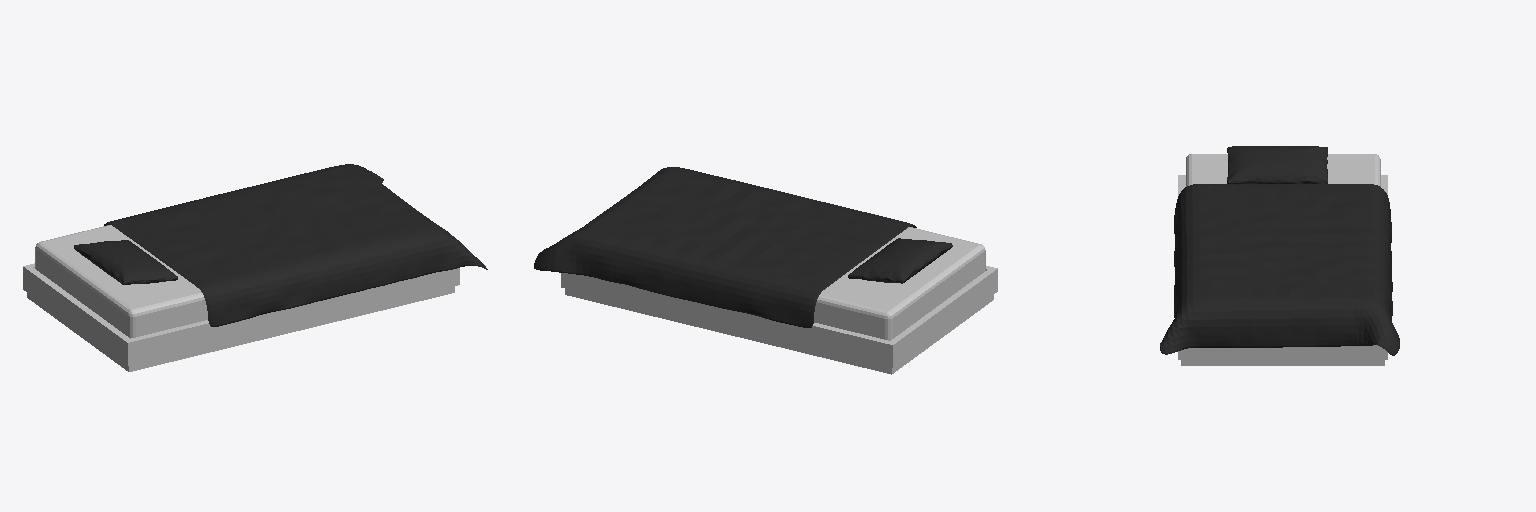
Rendered from bed.obj.
3 renders of one model, left to right at view 1: azimuth 30°, elevation 25°; view 2: azimuth 150°, elevation 25°; view 3: azimuth 270°, elevation 25°, orthographic.
Visible parts, largest first — view 1: Plane.001, Cube.001, Cube.002, Cube.003; view 2: Plane.001, Cube.001, Cube.002, Cube.003; view 3: Plane.001, Cube.001, Cube.003, Cube.002.
Part boxes in pixels (bbox=[...]): Plane.001: bbox=[104, 164, 487, 326]; Cube.001: bbox=[23, 263, 459, 371]; Cube.002: bbox=[35, 225, 207, 338]; Cube.003: bbox=[74, 240, 177, 284]; Plane.001: bbox=[534, 167, 916, 327]; Cube.001: bbox=[561, 266, 997, 374]; Cube.002: bbox=[814, 227, 985, 340]; Cube.003: bbox=[848, 238, 952, 283]; Plane.001: bbox=[1160, 184, 1399, 355]; Cube.001: bbox=[1178, 175, 1387, 365]; Cube.003: bbox=[1227, 146, 1327, 183]; Cube.002: bbox=[1186, 154, 1380, 186].
Bounding box in the file's own units: 5.48 × 1.09 × 3.19.